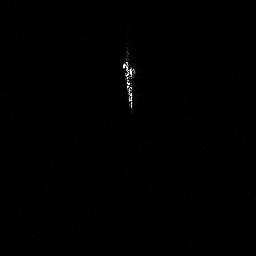ship: (119, 55, 139, 114)
